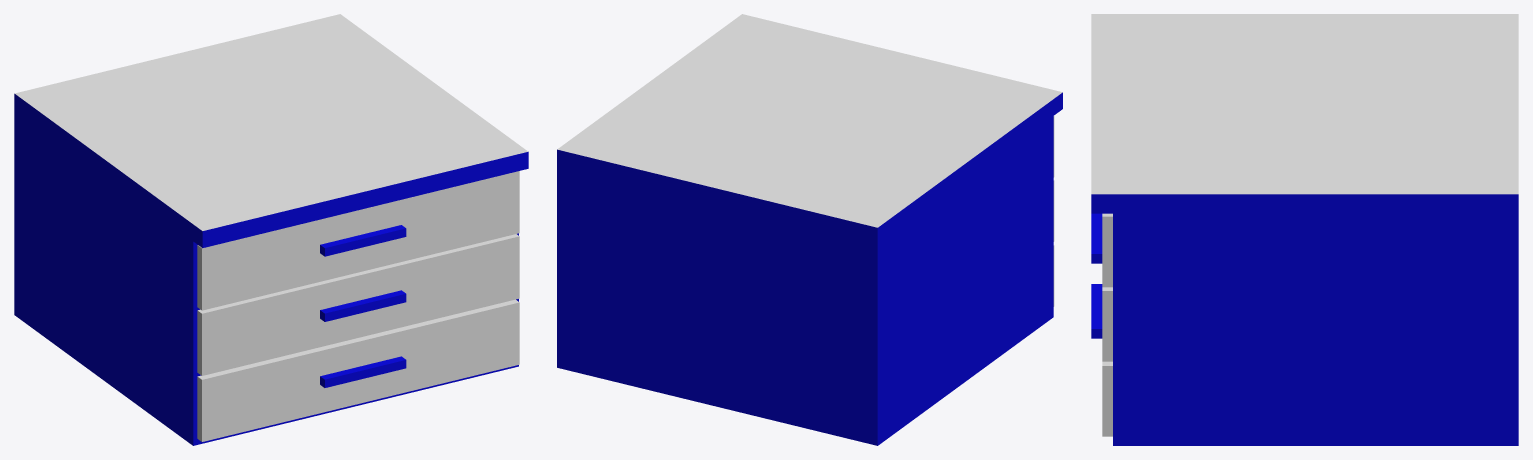
Rendered from c_3drawers.fbx.
3 views of the same model, side by side, from view 1: azimuth 30°, elevation 25°; view 2: azimuth 150°, elevation 25°; view 3: azimuth 270°, elevation 25° (orthographic). The views are drawn at different scales.
Parts seen in each view (by area): view 1: pCube129, pCube98, polySurface41, polySurface40, polySurface39; view 2: pCube98, pCube129; view 3: pCube98, pCube129, polySurface41, polySurface40, polySurface39.
Part boxes in pixels (x1,y1,x2,y2): pCube129: (14, 14, 528, 248); pCube98: (14, 110, 518, 445); polySurface41: (197, 299, 519, 441); polySurface40: (197, 234, 519, 375); polySurface39: (197, 171, 519, 310); pCube98: (557, 116, 1053, 445); pCube129: (557, 14, 1062, 244); pCube98: (1113, 213, 1518, 445); pCube129: (1091, 14, 1518, 213); polySurface41: (1091, 284, 1112, 436); polySurface40: (1091, 213, 1112, 361); polySurface39: (1102, 213, 1112, 287).
Bounding box in the file's own units: 200 × 130 × 200.
